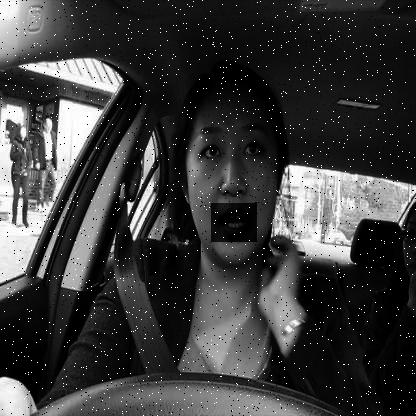seatbelt: (118, 57, 296, 374)
